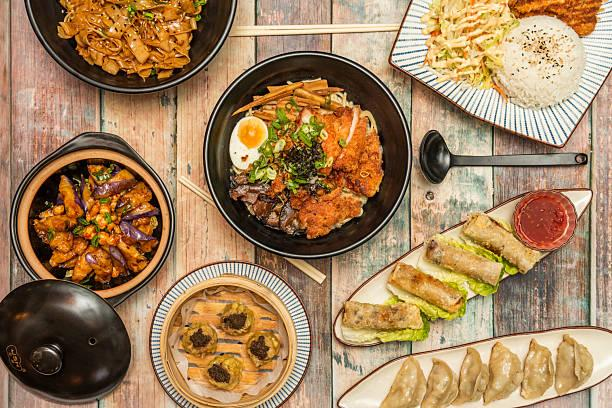Braised Crucian Carp: (204, 52, 406, 259), (333, 185, 591, 343), (11, 132, 174, 303), (150, 261, 309, 406), (337, 323, 612, 406)
